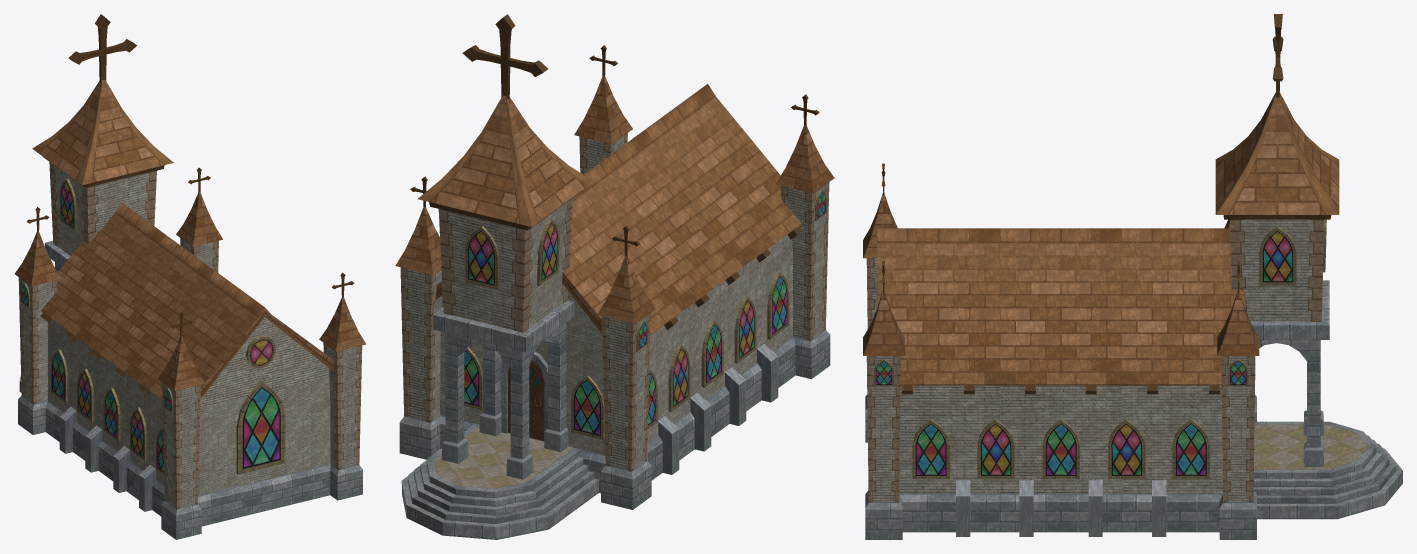
File: HOS0110016.fbx
3 views of the same model, side by side, from view 1: azimuth 30°, elevation 25°; view 2: azimuth 150°, elevation 25°; view 3: azimuth 270°, elevation 25° (orthographic). The views are drawn at different scales.
Parts seen in each view (by area): view 1: smHOS0110016; view 2: smHOS0110016; view 3: smHOS0110016.
Part boxes in pixels (x1,y1,x2,y2): smHOS0110016: [14, 14, 365, 539]; smHOS0110016: [395, 14, 834, 539]; smHOS0110016: [863, 14, 1402, 539].
Size of what is drawn, in the model's own units: 898 by 1698 by 1769.
1 material, 1 textured.
